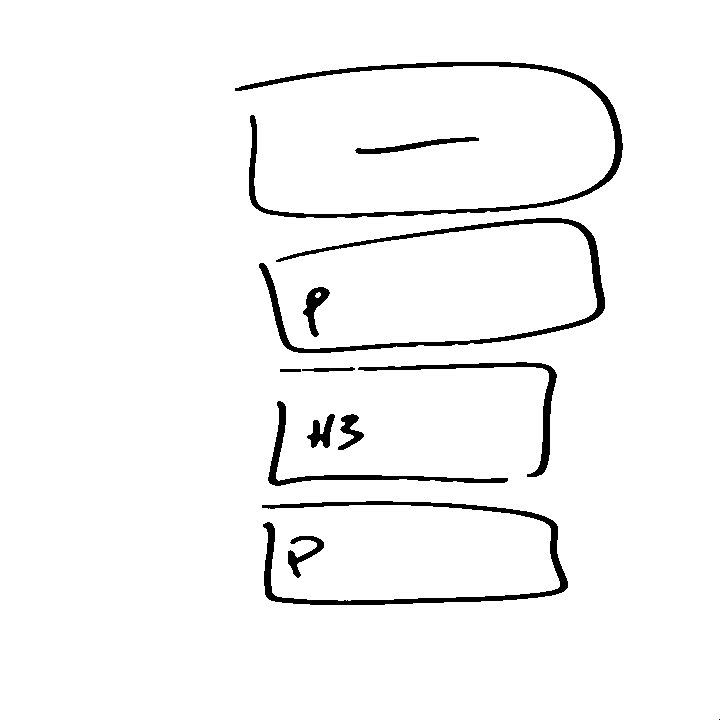button: (222, 59, 638, 219)
heading3: (263, 361, 562, 490)
paragraph: (239, 215, 617, 361), (255, 497, 573, 614)
